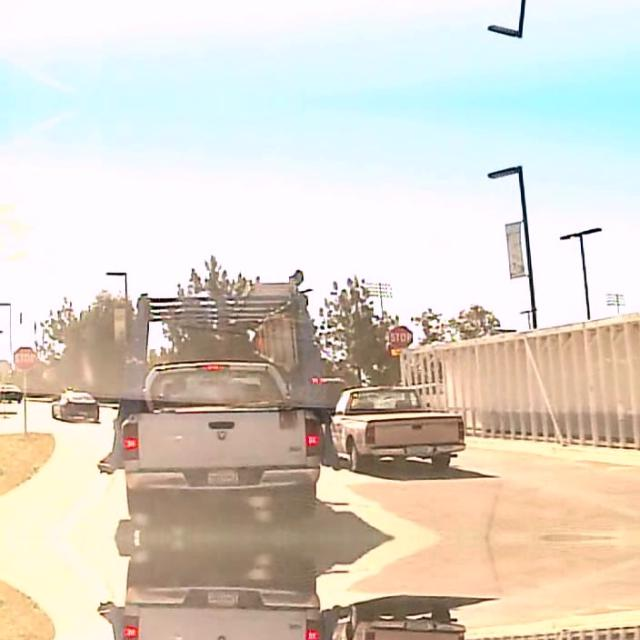stop: (387, 324, 411, 350), (13, 346, 37, 368)
